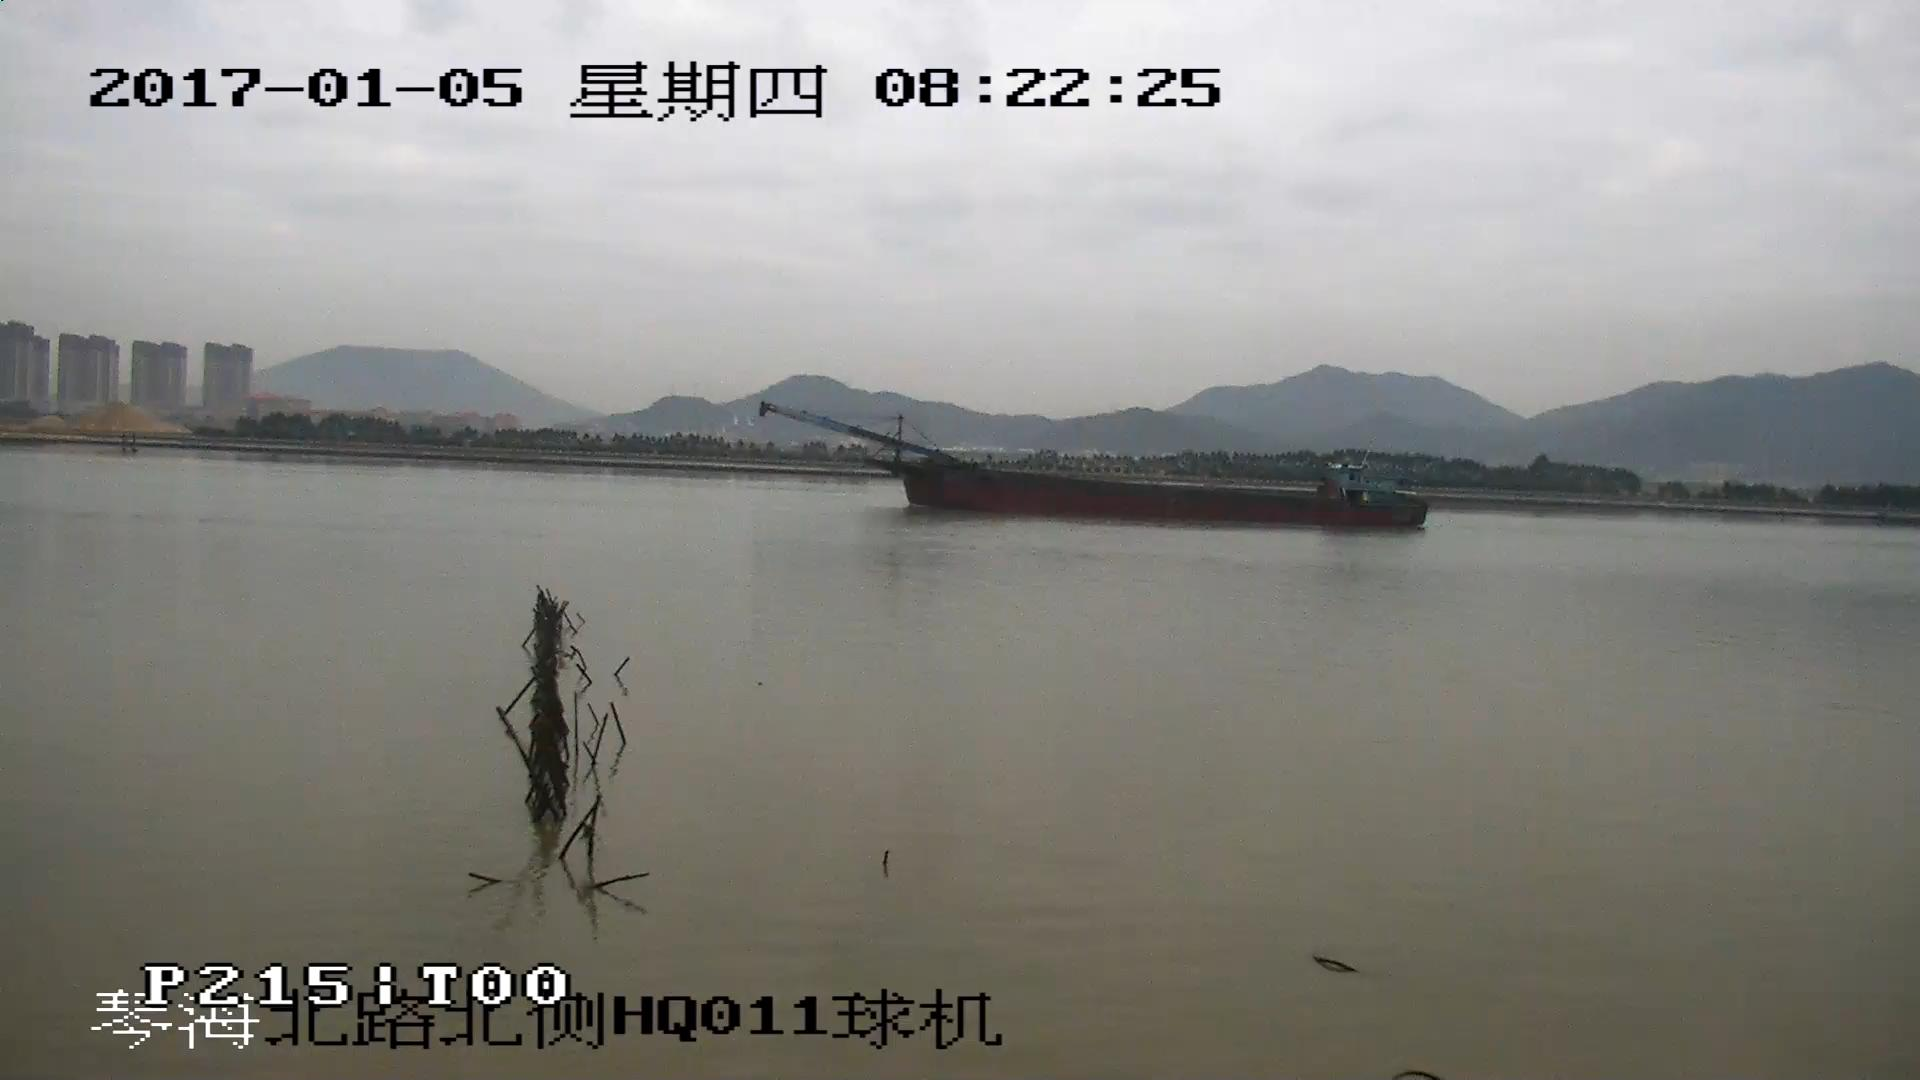bulk cargo carrier: (763, 410, 1425, 527)
